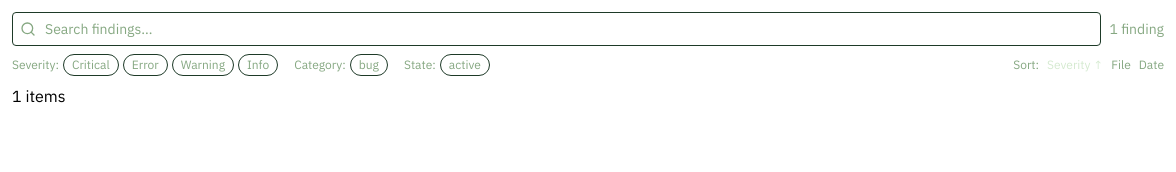
Scenario: FindingsToolbar › shows clear filters button when search is entered
This screenshot has width=1176, height=172.
Type "test" into the field with placeholder "Search findings…" at (557, 29), box [12,12,1101,46]
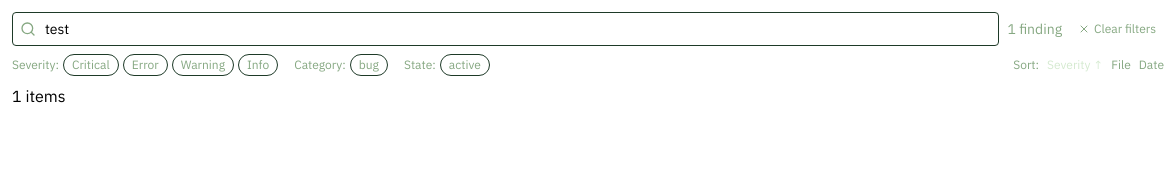
Expected: the button "Clear filters" is shown, [1070,17,1164,41]
